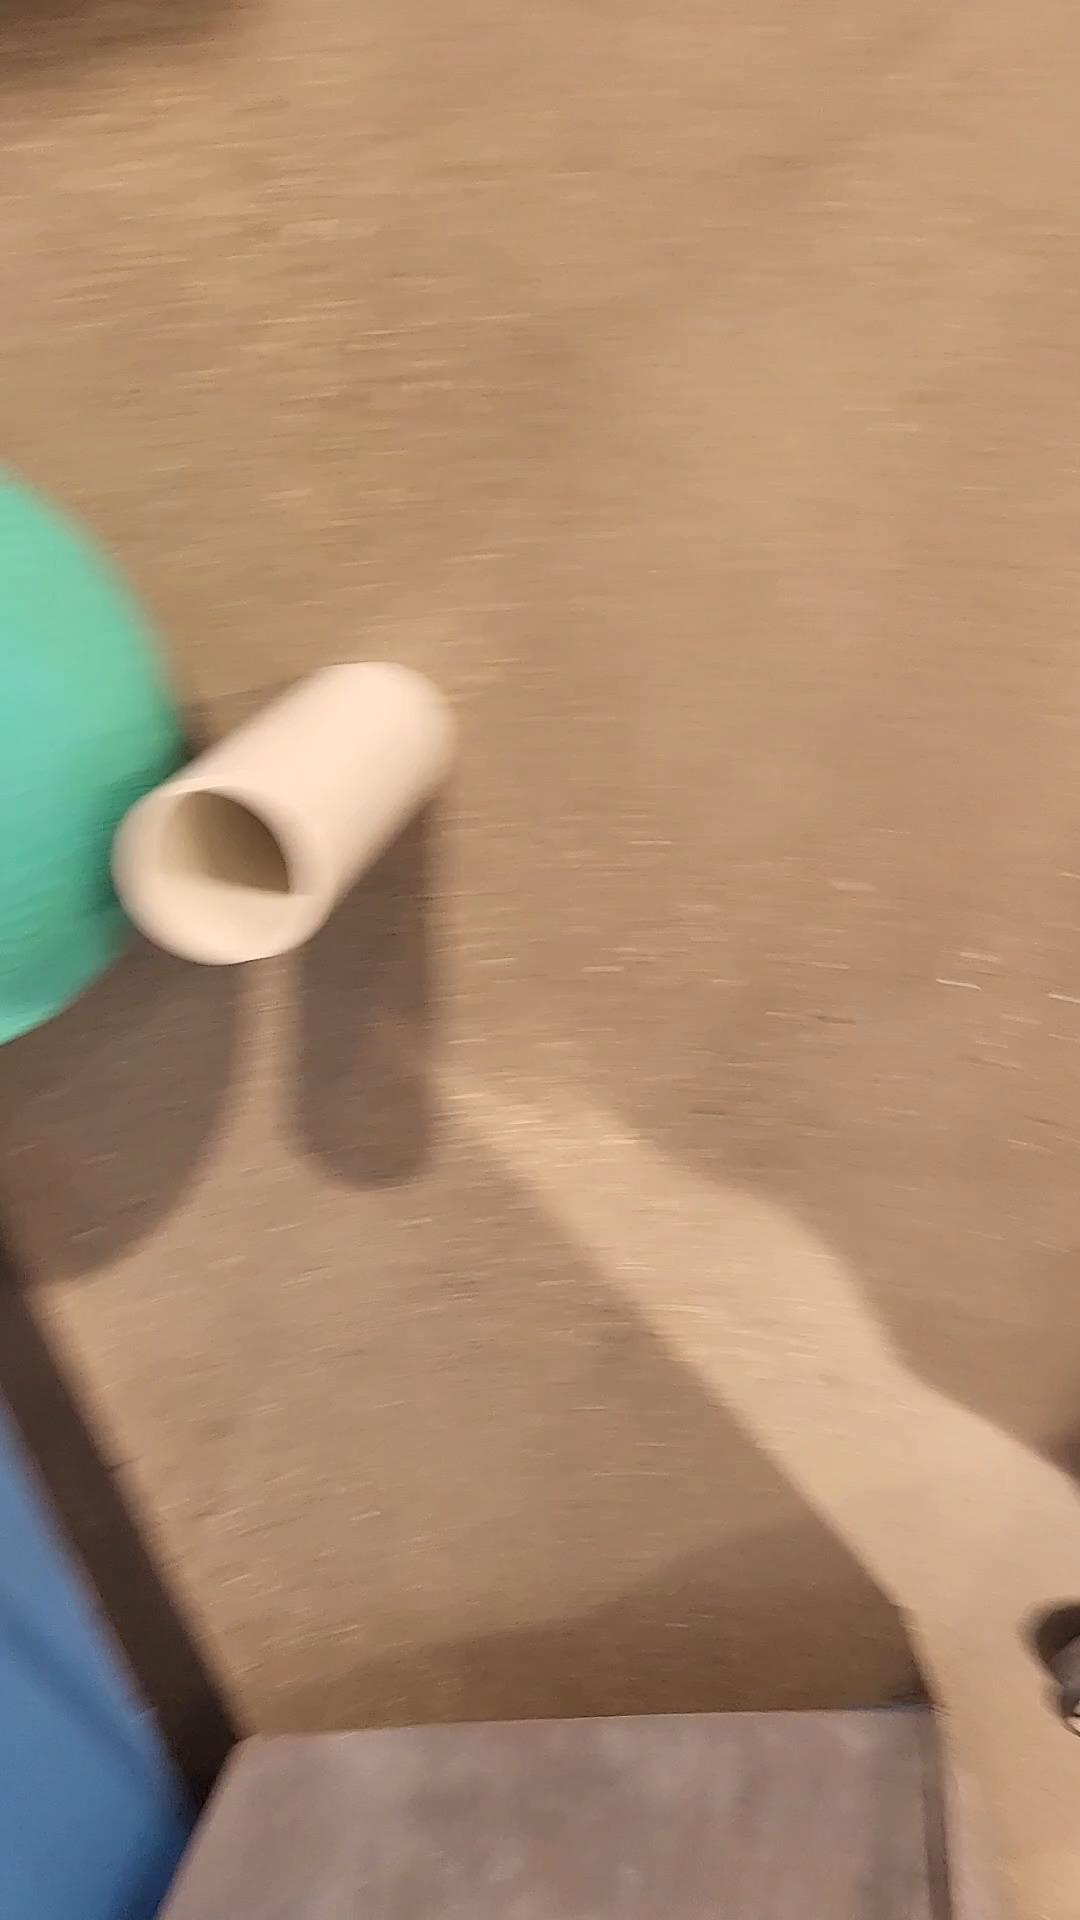algae: (0, 458, 173, 1065)
coral: (112, 658, 468, 968)
